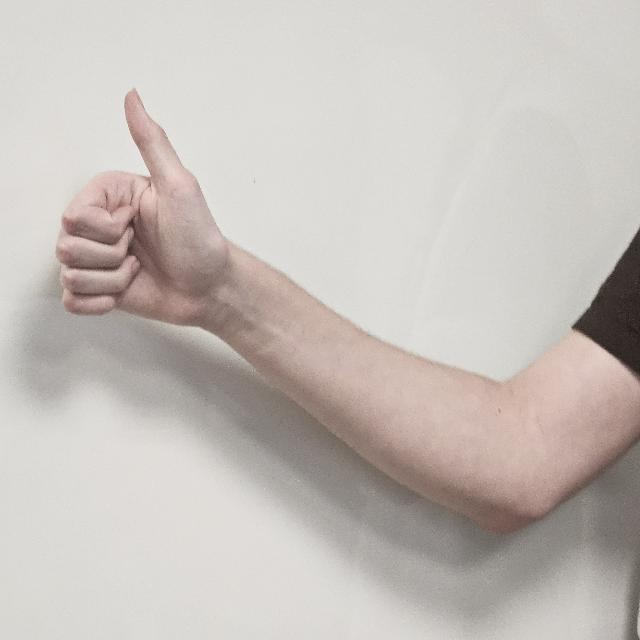Start: (55, 90, 226, 376)
